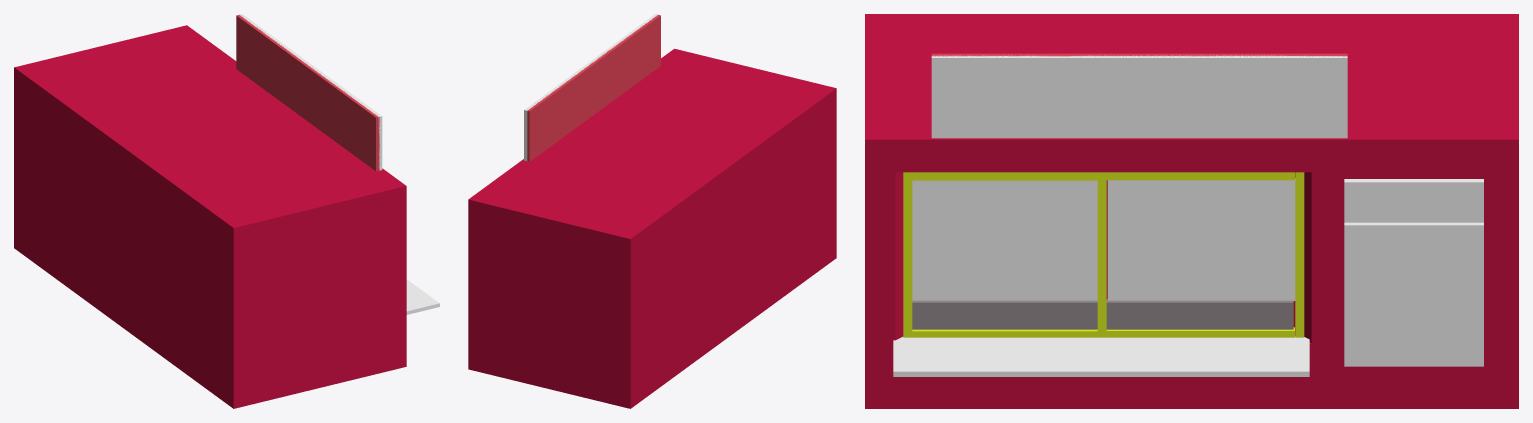
The model's file is BeavertailStand.glb.
3 renders of one model, left to right at view 1: azimuth 30°, elevation 25°; view 2: azimuth 150°, elevation 25°; view 3: azimuth 270°, elevation 25°, orthographic. The views are drawn at different scales.
Visible parts, largest first — view 1: Cube, Cube.003, Cube.002, Cube.015; view 2: Cube, Cube.003, Cube.002; view 3: Cube, Cube.002, Cube.014, Cube.013, Cube.001, Cube.015, Cube.016, Cube.011, Cube.012, Cube.007, Cube.010, Cube.008 (+5 smaller).
Part boxes in pixels (x1,y1,x2,y2): Cube: (14, 25, 406, 408); Cube.003: (236, 14, 379, 171); Cube.002: (240, 14, 382, 170); Cube.015: (406, 279, 439, 314); Cube: (468, 48, 836, 408); Cube.003: (527, 14, 660, 161); Cube.002: (524, 14, 657, 160); Cube: (865, 14, 1518, 408); Cube.002: (931, 55, 1347, 138); Cube.014: (1107, 178, 1295, 300); Cube.013: (912, 180, 1097, 300); Cube.001: (1344, 222, 1483, 366); Cube.015: (893, 336, 1309, 376); Cube.016: (1344, 179, 1483, 222); Cube.011: (1106, 299, 1293, 329); Cube.012: (912, 300, 1097, 329); Cube.007: (1106, 327, 1294, 337); Cube.010: (1106, 172, 1294, 180); Cube.008: (912, 329, 1097, 337).
Bounding box in the file's own units: 2.5 × 2.59 × 4.4.
